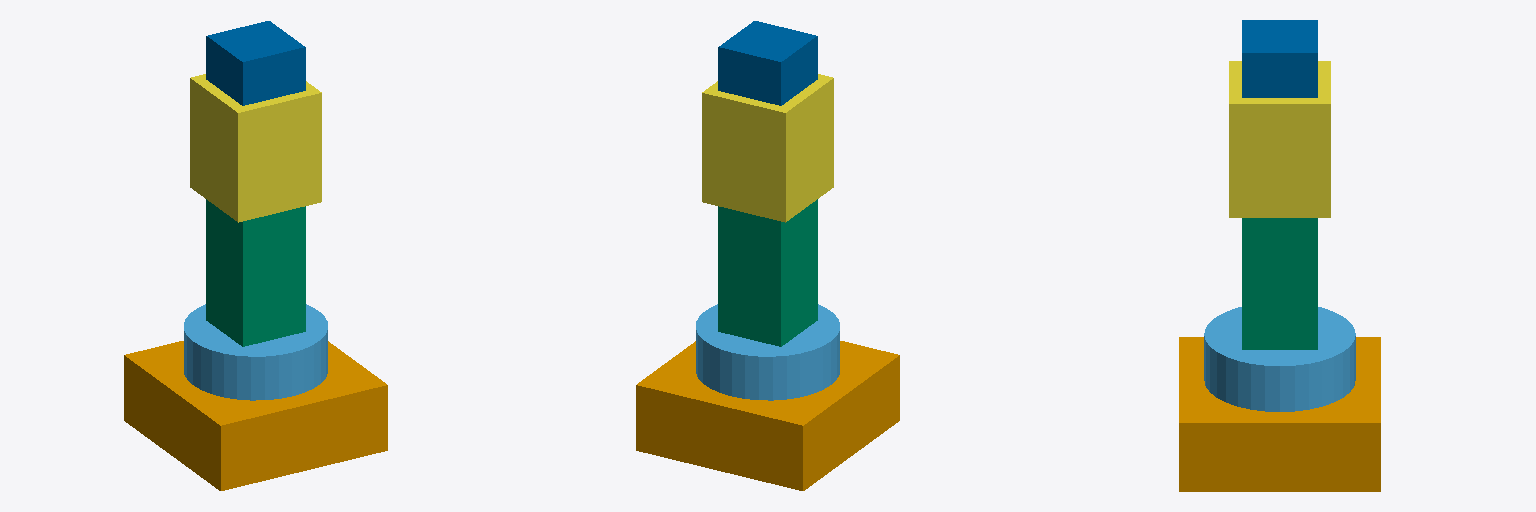
robot.urdf — kaju:
<?xml version="1.0"?>
<robot name="kaju">
    <link name="world">
        <visual>
          <origin rpy="0 0 0" xyz="0 0 0.15" />
          <geometry>
            <box size="0.8 0.8 0.3"/>
          </geometry>
        </visual>
    </link>
    <link name="base">     
        <inertial>
            <origin rpy="0 0 0" xyz="0 0 0.1"/>
            <mass value="3"/>
            <inertia ixx="0.0075"  ixy="0"  ixz="0" iyy="0.0075" iyz="0" izz="0.135" />
        </inertial>   
        <visual>
          <origin rpy="0 0 0" xyz="0 0 0.1" />
          <geometry>
            <cylinder radius="0.3" length="0.2" />
          </geometry>
        </visual>
        <collision>
            <origin rpy="0 0 0" xyz="0 0 0.1" />
            <geometry>
                <cylinder radius="0.3" length="0.2" />
            </geometry>
        </collision>
    </link>
    <link name="my_link_1">  
        <inertial>
            <origin rpy="0 0 0" xyz="0 0 0.3"/>
            <mass value="2"/>
            <inertia ixx="0.075"  ixy="0"  ixz="0" iyy="0.03" iyz="0" izz="0.075" />
        </inertial>     
        <visual>
          <origin rpy="0 0 0" xyz="0 0 0.3" />
          <geometry>
            <box size="0.3 0.3 0.6"/>
          </geometry>
        </visual>
        <collision>
          <origin rpy="0 0 0" xyz="0 0 0.3" />
          <geometry>
            <box size="0.3 0.3 0.6"/>
          </geometry>      
        </collision>
    </link>
    <link name="my_link_2">
        <inertial>
            <origin rpy="0 0 0" xyz="0 0 0.25"/>
            <mass value="1"/>
            <inertia ixx="0.0342"  ixy="0"  ixz="0" iyy="0.0267" iyz="0" izz="0.0342" />
        </inertial>  
        <visual>
            <origin rpy="0 0 0" xyz="0 0 0.25" />
            <geometry>
             <box size="0.4 0.4 0.5"/>
            </geometry>
        </visual>
        <collision>
            <origin rpy="0 0 0" xyz="0 0 0.25" />
            <geometry>
             <box size="0.4 0.4 0.5"/>
            </geometry>       
        </collision>
    </link>
    <link name="my_link_3">
        <inertial>
            <origin rpy="0 0 0" xyz="0 0 0.1"/>
            <mass value="1"/>
            <inertia ixx="0.0108"  ixy="0"  ixz="0" iyy="0.015" iyz="0" izz="0.0108" />
        </inertial>  
        <visual>
            <origin rpy="0 0 0" xyz="0 0 0.1" />
            <geometry>
             <box size="0.3 0.3 0.2"/>
            </geometry>
        </visual>
        <collision>
            <origin rpy="0 0 0" xyz="0 0 0.1" />
            <geometry>
             <box size="0.3 0.3 0.2"/>
            </geometry>      
        </collision>
    </link>

    <joint name="base_link__link" type="revolute">
        <axis xyz="0 0 1"/>
        <limit effort="1000.0" lower="-3.14" upper="3.14" velocity="0.5"/>
        <origin rpy="0 0 0" xyz="0 0 0.3"/>
        <parent link="world"/>
        <child link="base"/>
    </joint>    
    <joint name="base_link__link_00" type="revolute">
        <axis xyz="0 1 0"/>
        <limit effort="1000.0" lower="-3.14" upper="3.14" velocity="0.5"/>
        <origin rpy="0 0 0" xyz="0 0 0.2"/>
        <parent link="base"/>
        <child link="my_link_1"/>
    </joint>
    <joint name="base_link__link_01" type="revolute">
        <axis xyz="0 1 0"/>
        <limit effort="1000.0" lower="-1.57" upper="1.57" velocity="0.5"/>
        <origin rpy="0 0 0" xyz="0 0 0.6"/>
        <parent link="my_link_1"/>
        <child link="my_link_2"/>
    </joint>
    <joint name="base_link__link_02" type="revolute">
        <axis xyz="0 1 0"/>
        <limit effort="1000.0" lower="-1.57" upper="1.57" velocity="0.5"/>
        <origin rpy="0 0 0" xyz="0 0 0.5"/>
        <parent link="my_link_2"/>
        <child link="my_link_3"/>
    </joint>

    <transmission name="Trans-0">
        <type>transmission_interface/SimpleTransmission</type>
        <joint name="base_link__link">
          <hardwareInterface>hardware_interface/PositionJointInterface</hardwareInterface>
        </joint>
        <actuator name="motor-0">
          <mechanicalReduction>1</mechanicalReduction>
          <hardwareInterface>hardware_interface/PositionJointInterface</hardwareInterface>
        </actuator>
    </transmission>
    <transmission name="Trans-1">
        <type>transmission_interface/SimpleTransmission</type>
        <joint name="base_link__link_00">
          <hardwareInterface>hardware_interface/PositionJointInterface</hardwareInterface>
        </joint>
        <actuator name="motor-1">
          <mechanicalReduction>1</mechanicalReduction>
          <hardwareInterface>hardware_interface/PositionJointInterface</hardwareInterface>
        </actuator>
    </transmission>
    <transmission name="Trans-2">
        <type>transmission_interface/SimpleTransmission</type>
        <joint name="base_link__link_01">
          <hardwareInterface>hardware_interface/PositionJointInterface</hardwareInterface>
        </joint>
        <actuator name="motor-2">
          <mechanicalReduction>1</mechanicalReduction>
          <hardwareInterface>hardware_interface/PositionJointInterface</hardwareInterface>
        </actuator>
    </transmission>
    <transmission name="Trans-3">
        <type>transmission_interface/SimpleTransmission</type>
        <joint name="base_link__link_02">
          <hardwareInterface>hardware_interface/PositionJointInterface</hardwareInterface>
        </joint>
        <actuator name="motor-2">
          <mechanicalReduction>1</mechanicalReduction>
          <hardwareInterface>hardware_interface/PositionJointInterface</hardwareInterface>
        </actuator>
    </transmission>

    <gazebo>
        <plugin name="control" filename="libgazebo_ros_control.so"/>
    </gazebo>
</robot>

--- What the picture shows (computed from the rendered views, not written in the file) ---
The picture shows the robot from 3 angles, left to right: view 1: azimuth 30°, elevation 25°; view 2: azimuth 150°, elevation 25°; view 3: azimuth 270°, elevation 25°; orthographic projection.
Robot: kaju — 5 links, 4 joints (4 revolute); root link world; default pose: all joints at 0.
Links seen in each view (by area): view 1: world, my_link_2, my_link_1, base, my_link_3; view 2: world, my_link_2, my_link_1, base, my_link_3; view 3: world, my_link_2, base, my_link_1, my_link_3.
Link boxes in pixels (<box>): world: <box>124,341,387,490</box>; my_link_2: <box>190,74,321,222</box>; my_link_1: <box>206,199,305,346</box>; base: <box>184,304,327,400</box>; my_link_3: <box>206,21,305,105</box>; world: <box>636,341,899,490</box>; my_link_2: <box>702,74,833,222</box>; my_link_1: <box>718,199,817,346</box>; base: <box>696,304,839,400</box>; my_link_3: <box>718,21,817,105</box>; world: <box>1179,337,1380,491</box>; my_link_2: <box>1229,61,1330,217</box>; base: <box>1204,307,1355,411</box>; my_link_1: <box>1242,218,1317,349</box>; my_link_3: <box>1242,20,1317,97</box>.
Bounding box of the posed robot: 0.8 × 0.8 × 1.8 m (x, y, z).
Geometry: primitives only (box / cylinder / sphere), no mesh files.
